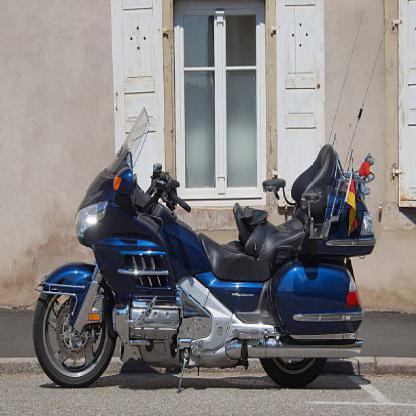Motorcycle: (25, 109, 376, 397)
